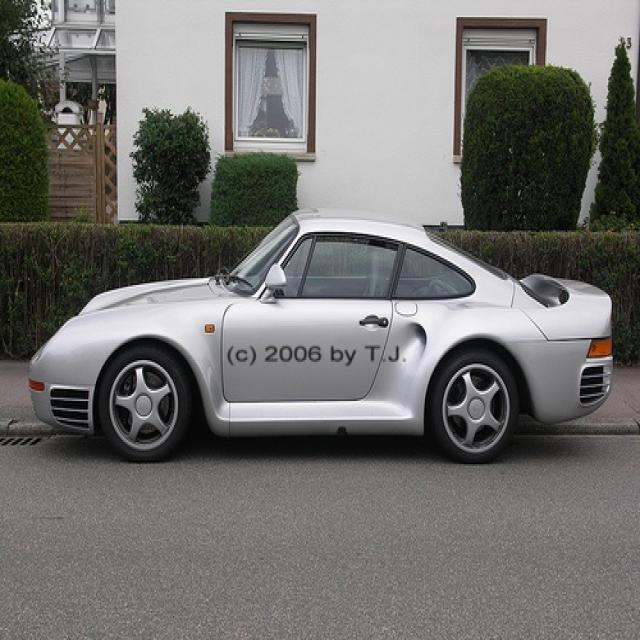car: (32, 212, 612, 464)
